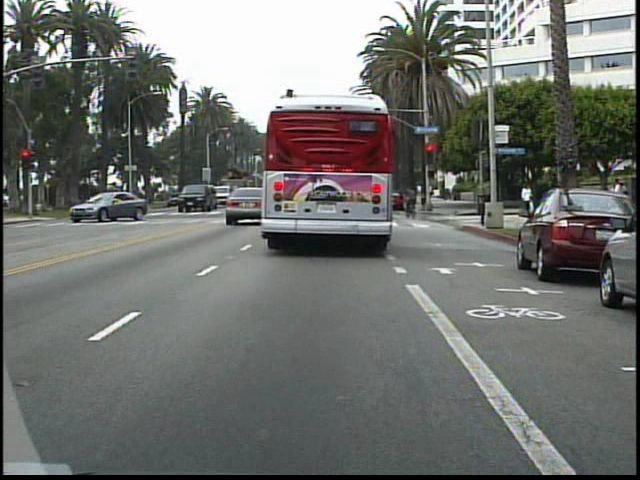person: (609, 175, 626, 224), (518, 181, 537, 218), (402, 182, 422, 217)
